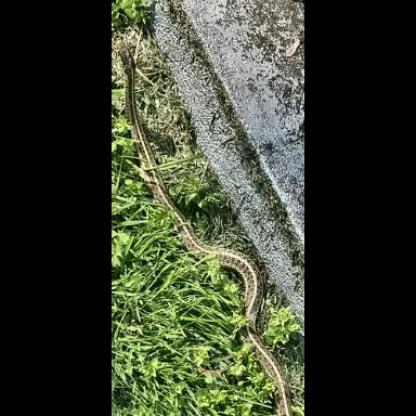Snake: (115, 38, 292, 413)
